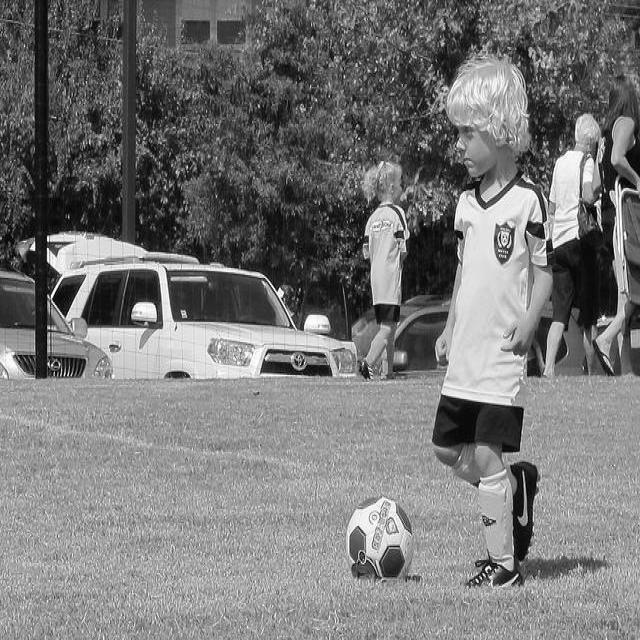vehicle: (51, 262, 358, 380), (2, 268, 114, 382), (373, 305, 451, 378)
